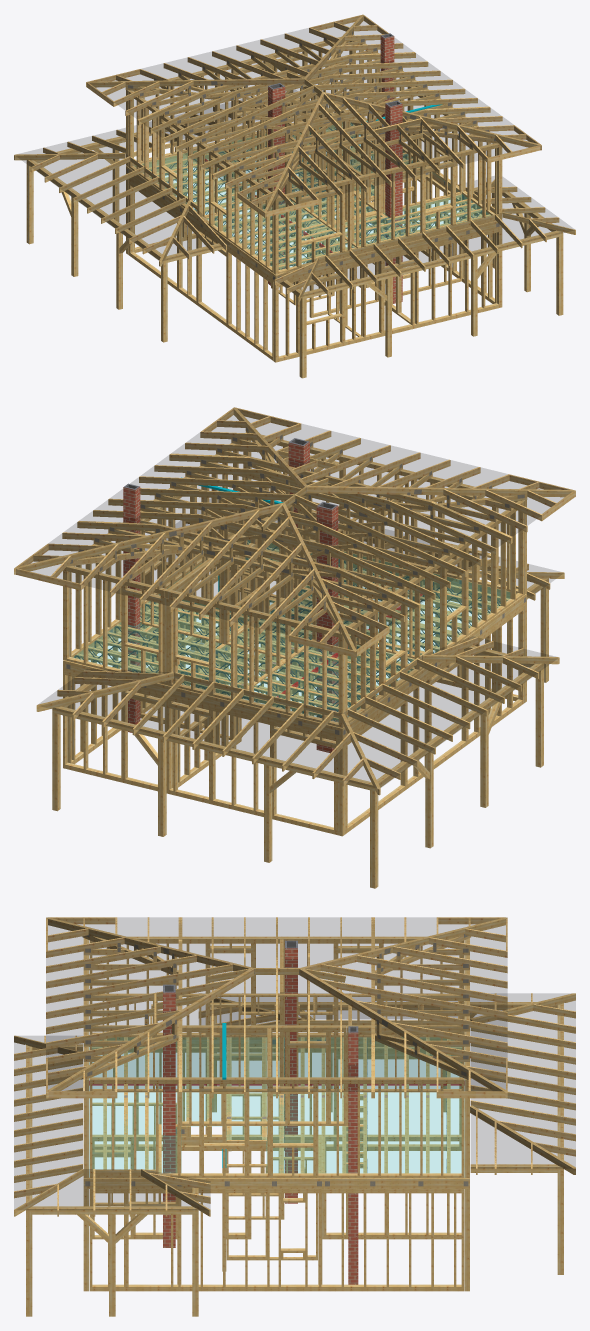
The model's file is house-frame_2.glb.
3 renders of one model, top to bottom at view 1: azimuth 30°, elevation 25°; view 2: azimuth 150°, elevation 25°; view 3: azimuth 270°, elevation 25°, orthographic. The views are drawn at different scales.
Parts seen in each view (by area): view 1: skfb_offset; view 2: skfb_offset; view 3: skfb_offset.
Part boxes in pixels (x1,y1,x2,y2): skfb_offset: [14, 14, 575, 378]; skfb_offset: [14, 407, 575, 888]; skfb_offset: [14, 917, 575, 1316].
Bounding box in the file's own units: 12800 × 7040 × 14000.
10 materials, 6 textured.
